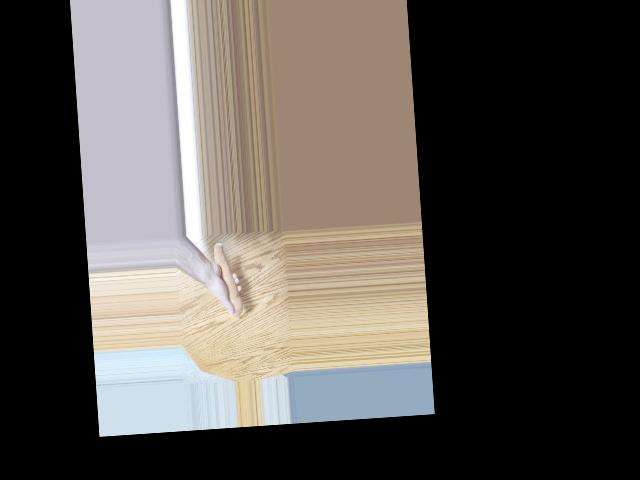sweet_potato: (211, 240, 243, 317)
